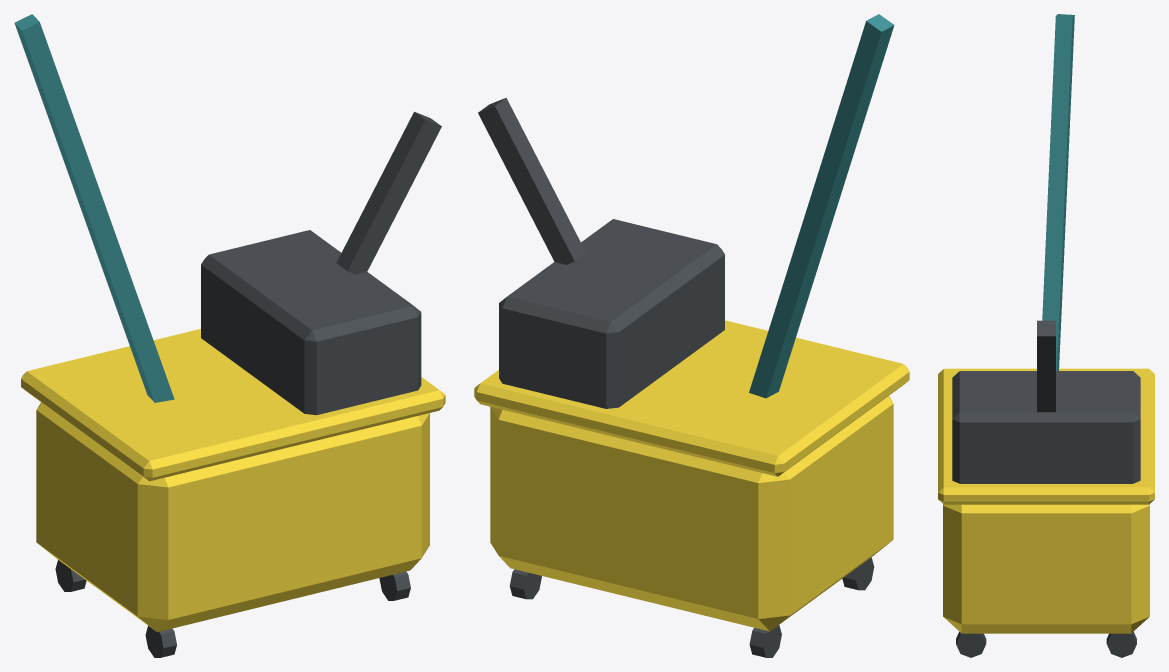
The model's file is mop-bucket.glb.
3 views of the same model, side by side, from view 1: azimuth 30°, elevation 25°; view 2: azimuth 150°, elevation 25°; view 3: azimuth 270°, elevation 25° (orthographic). The views are drawn at different scales.
Visible parts, largest first — view 1: mop-bucket; view 2: mop-bucket; view 3: mop-bucket.
Part boxes in pixels (left/top/right/bottom): mop-bucket: left=14, top=14, right=445, bottom=657; mop-bucket: left=474, top=14, right=909, bottom=657; mop-bucket: left=938, top=14, right=1154, bottom=657.
Size of the model in its own units: 0.4183 by 0.6028 by 0.23.
